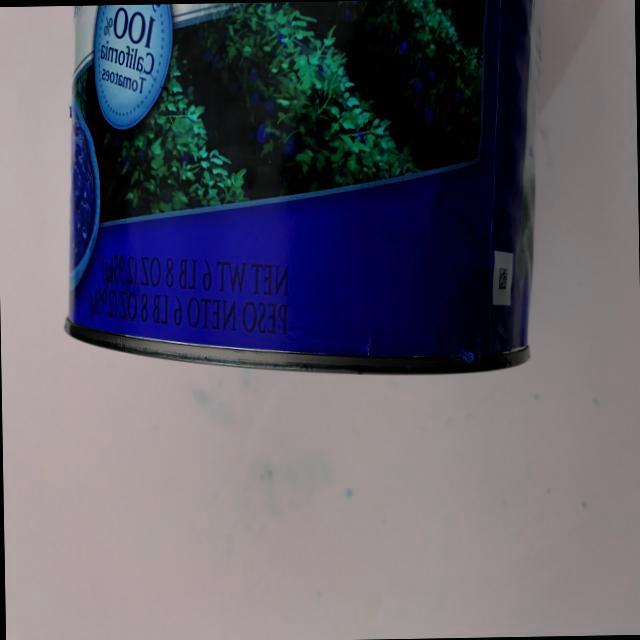metal: (47, 0, 576, 409)
